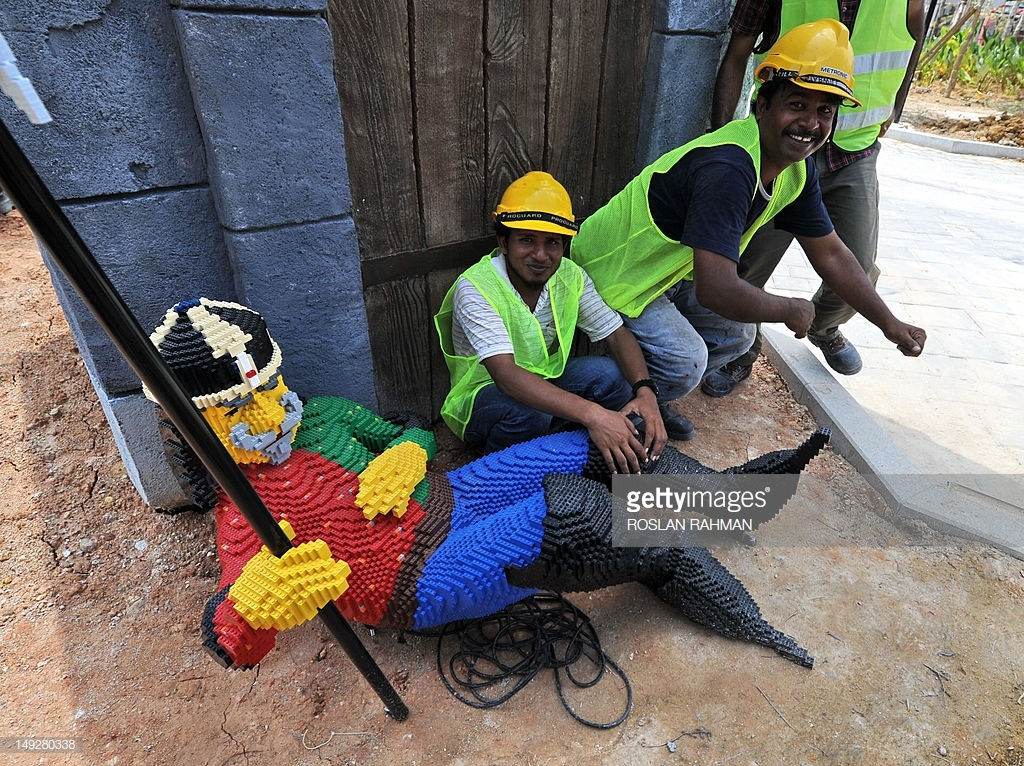yellow: (758, 21, 856, 155), (497, 173, 570, 282)
